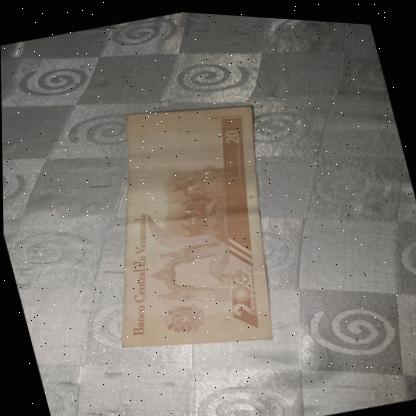twenty-back-vef: (63, 78, 310, 374)
